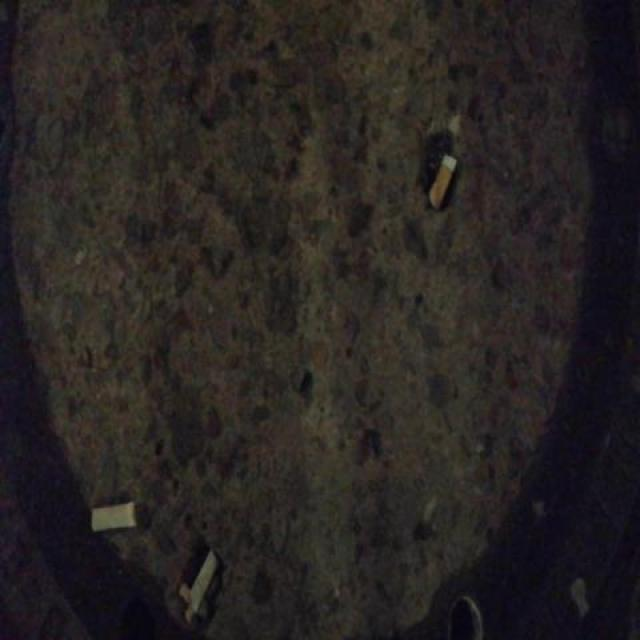non-organic waste: (182, 544, 221, 617), (424, 147, 459, 215), (86, 498, 138, 534)
